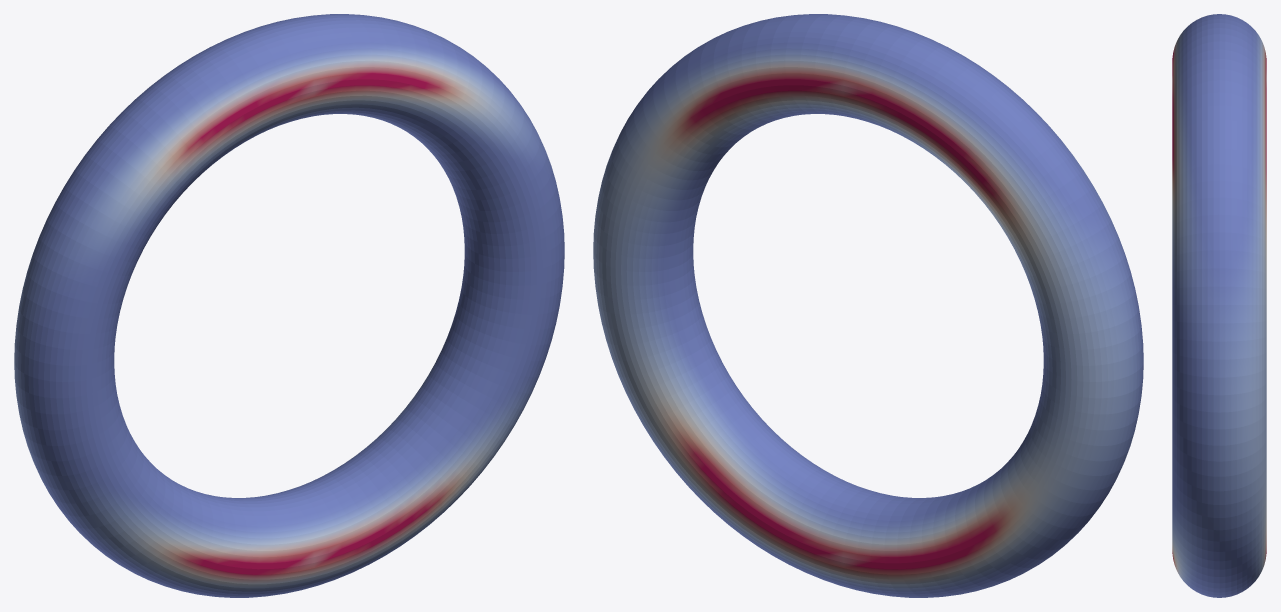
3 renders of one model, left to right at view 1: azimuth 30°, elevation 25°; view 2: azimuth 150°, elevation 25°; view 3: azimuth 270°, elevation 25°, orthographic. The views are drawn at different scales.
Parts seen in each view (by area): view 1: world; view 2: world; view 3: world.
Boxes of the visible parts, left/top/right/bottom form: world: left=14, top=14, right=564, bottom=597; world: left=593, top=14, right=1143, bottom=597; world: left=1172, top=14, right=1266, bottom=597.
Size of the model in its own units: 20.67 by 20.67 by 3.33.
